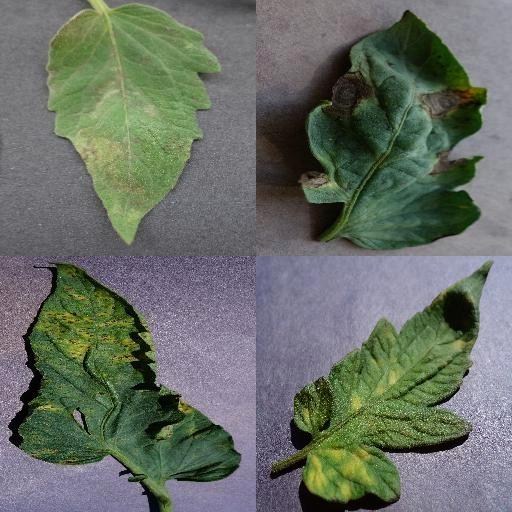Early Blight: (297, 9, 489, 255)
Late Blight: (45, 4, 223, 246)
Leaf Mold: (296, 261, 494, 505)
Septoria: (16, 260, 240, 482)
